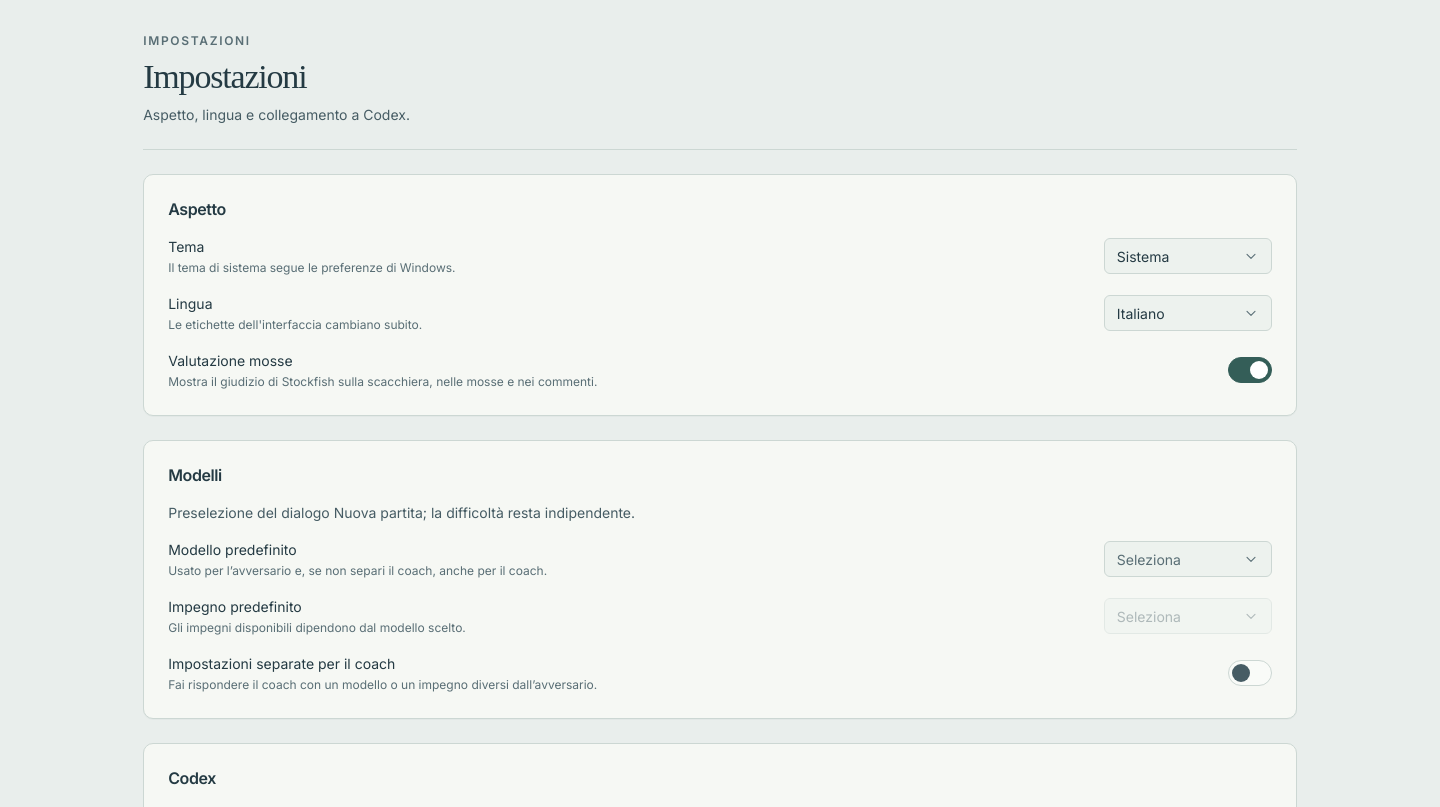
Test: SettingsScreen › reveals the coach model and effort only once they are kept separate
Expected: the dropdown named "Modello predefinito" is shown, [1104,541,1272,577]
Expected: the dropdown labelled "Modello del coach" is not shown
Click the switch named "Impostazioni separate per il coach" in the row of "Impostazioni separate per il coach". click: click(1250, 673)
box: [1228,660,1272,686]
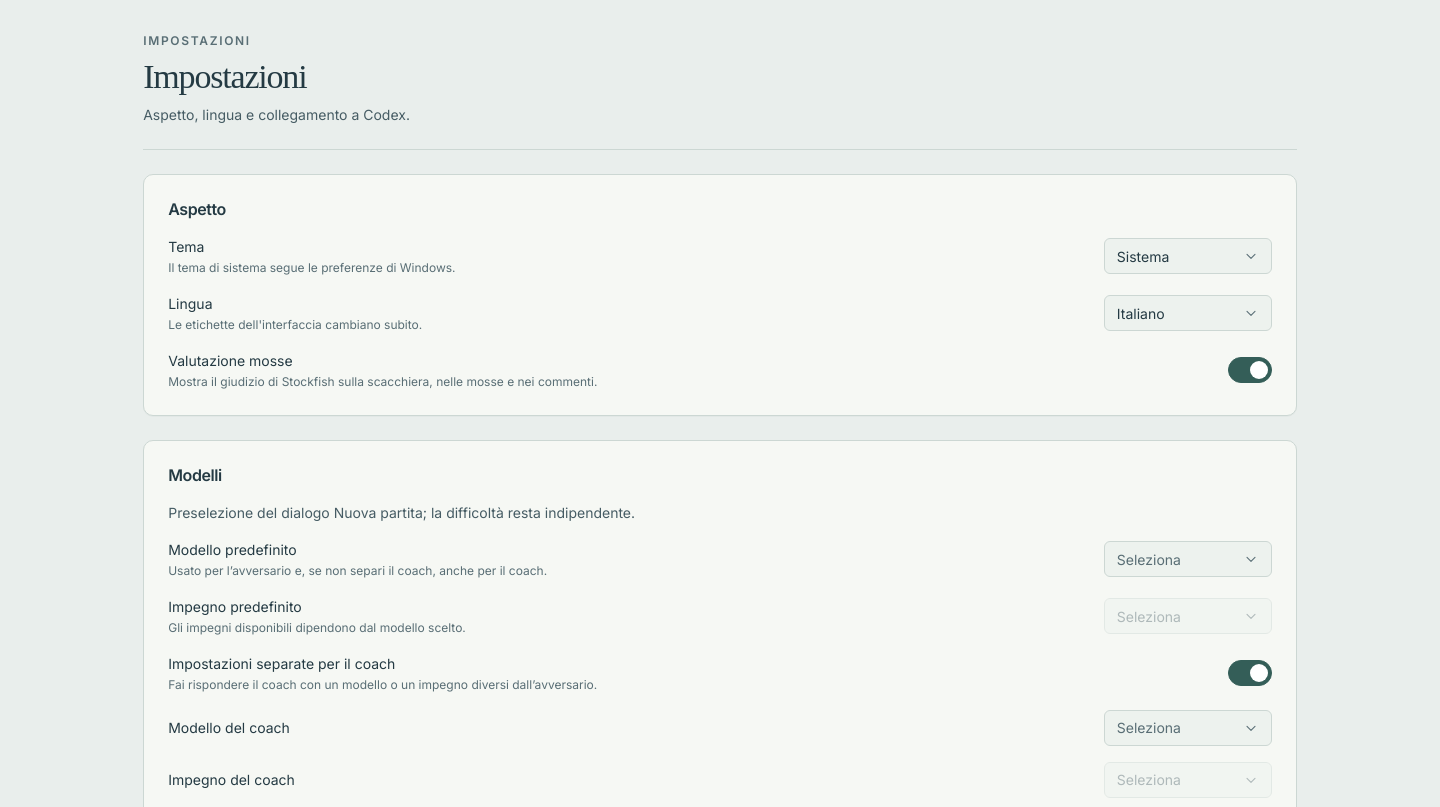
Now the dropdown named "Modello del coach" is shown, box [1104,710,1272,746]
Now the dropdown named "Impegno del coach" is shown, box [1104,762,1272,798]
